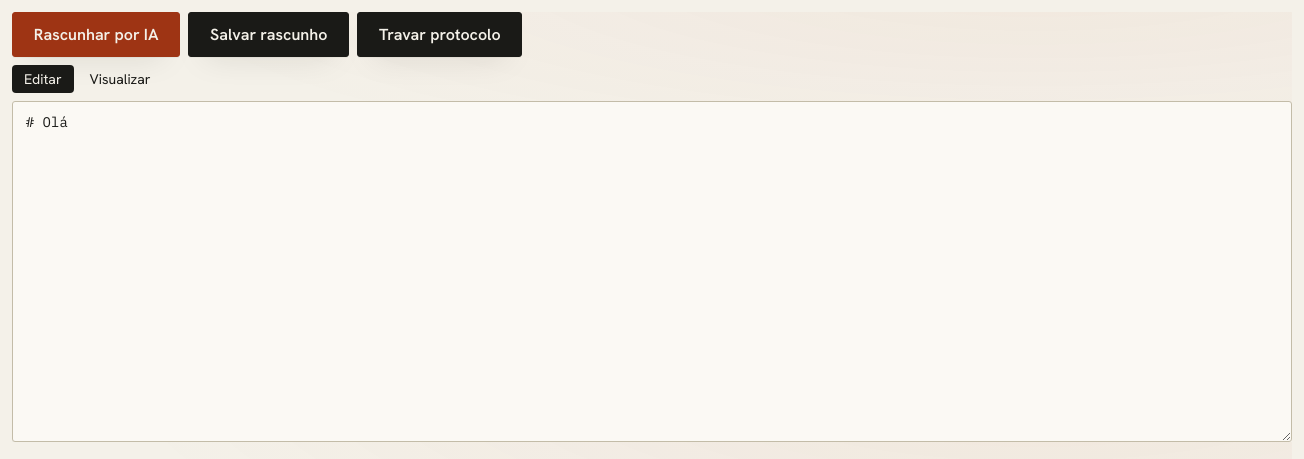
ProtocolEditor — toggle Editar/Visualizar › alterna para Visualizar: renderiza o markdown e esconde o textarea
Click the tab "Visualizar": point(120, 79) [78,65,162,93]
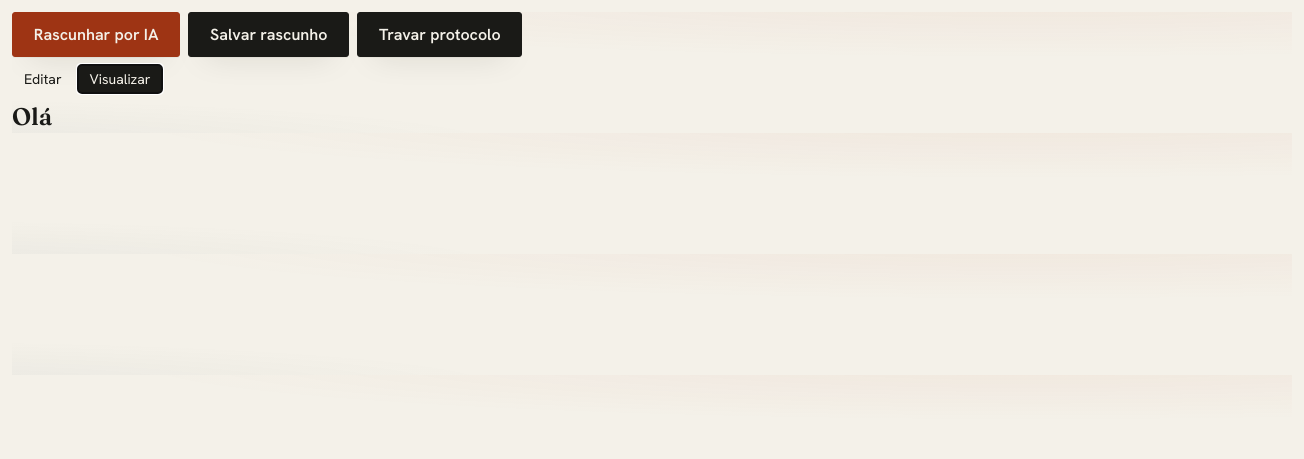
Expected: the heading "Olá" is shown, [12,102,52,131]
